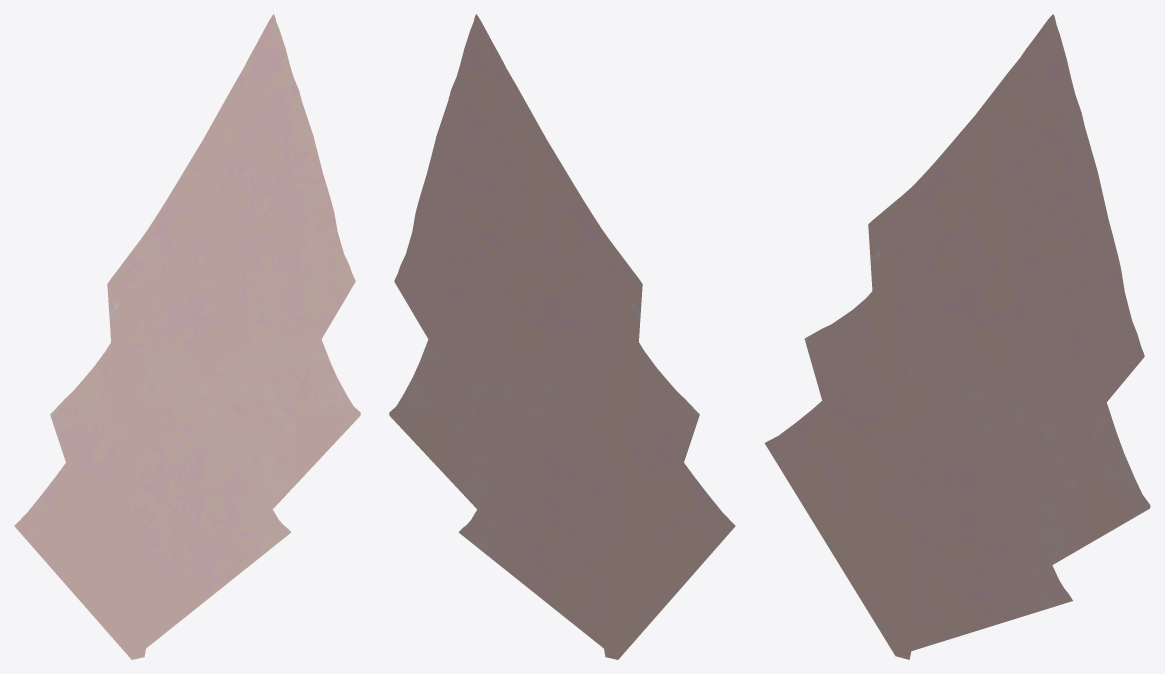
File: tower.fbx_winter_tree_3_.fbx
3 views of the same model, side by side, from view 1: azimuth 30°, elevation 25°; view 2: azimuth 150°, elevation 25°; view 3: azimuth 330°, elevation 25° (orthographic). The views are drawn at different scales.
Parts seen in each view (by area): view 1: Vert.012; view 2: Vert.012; view 3: Vert.012.
Boxes of the visible parts, x1,y1,x2,y2 form: Vert.012: (14,14,360,659); Vert.012: (389,14,735,659); Vert.012: (764,14,1150,659).
Bounding box in the file's own units: 1554 × 2620 × 0.000685.
